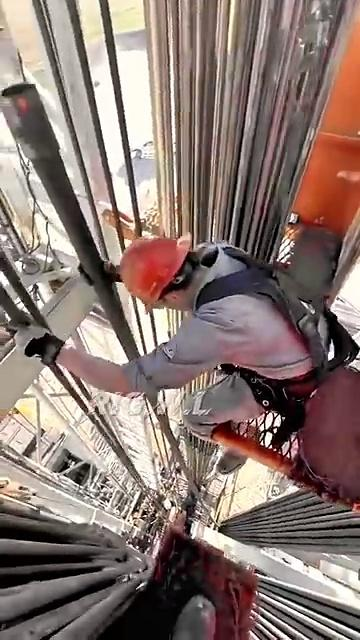gloves: (18, 320, 67, 397)
helmet: (125, 223, 187, 305)
worker: (48, 168, 317, 537)
